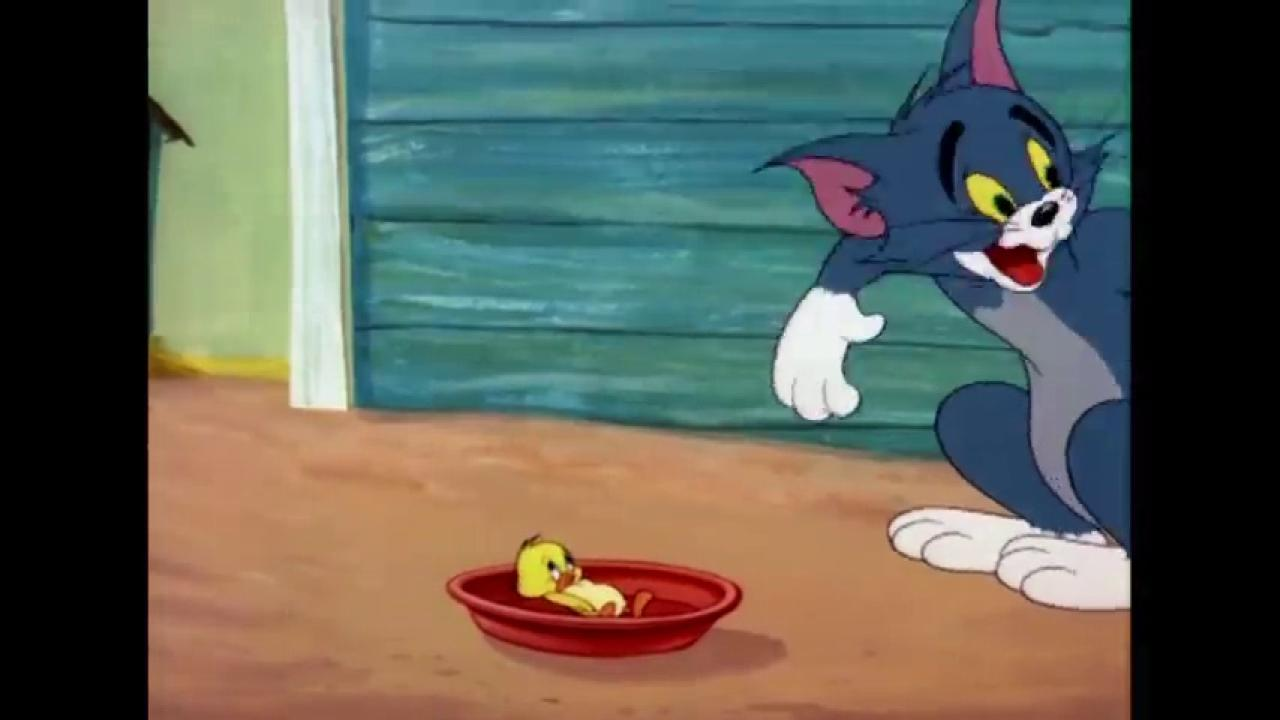Tom: (750, 0, 1130, 612)
